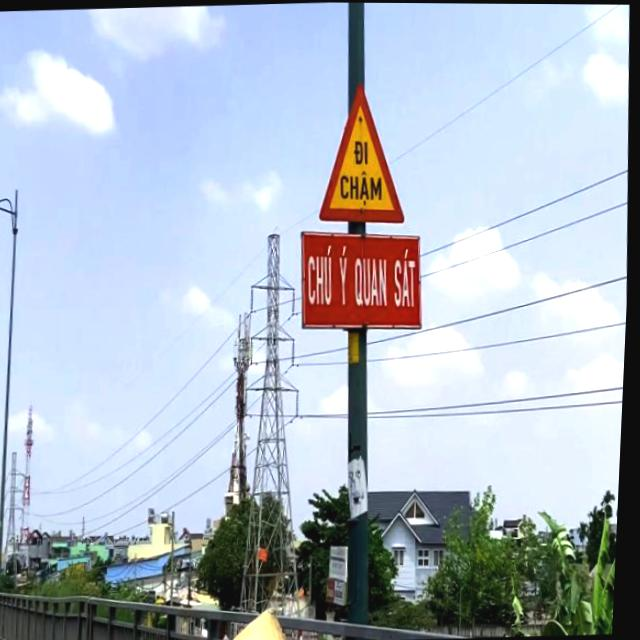Di cham: (312, 76, 414, 230)
